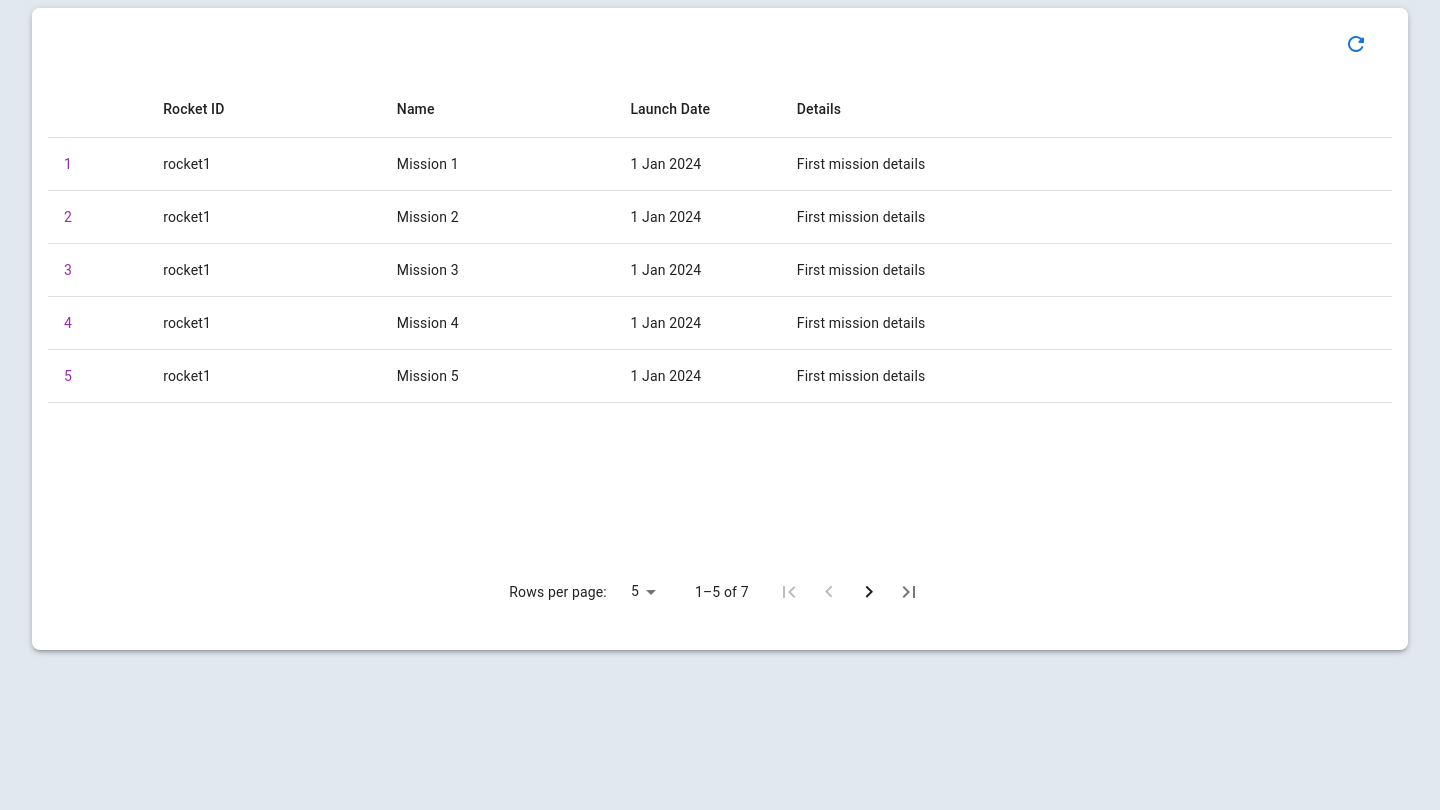
Scenario: LaunchDataTable › Pagination › handles last page with fewer items than rows per page
Step 1. Click the button titled "Go to last page" → (909, 592), box [889,572,929,612]
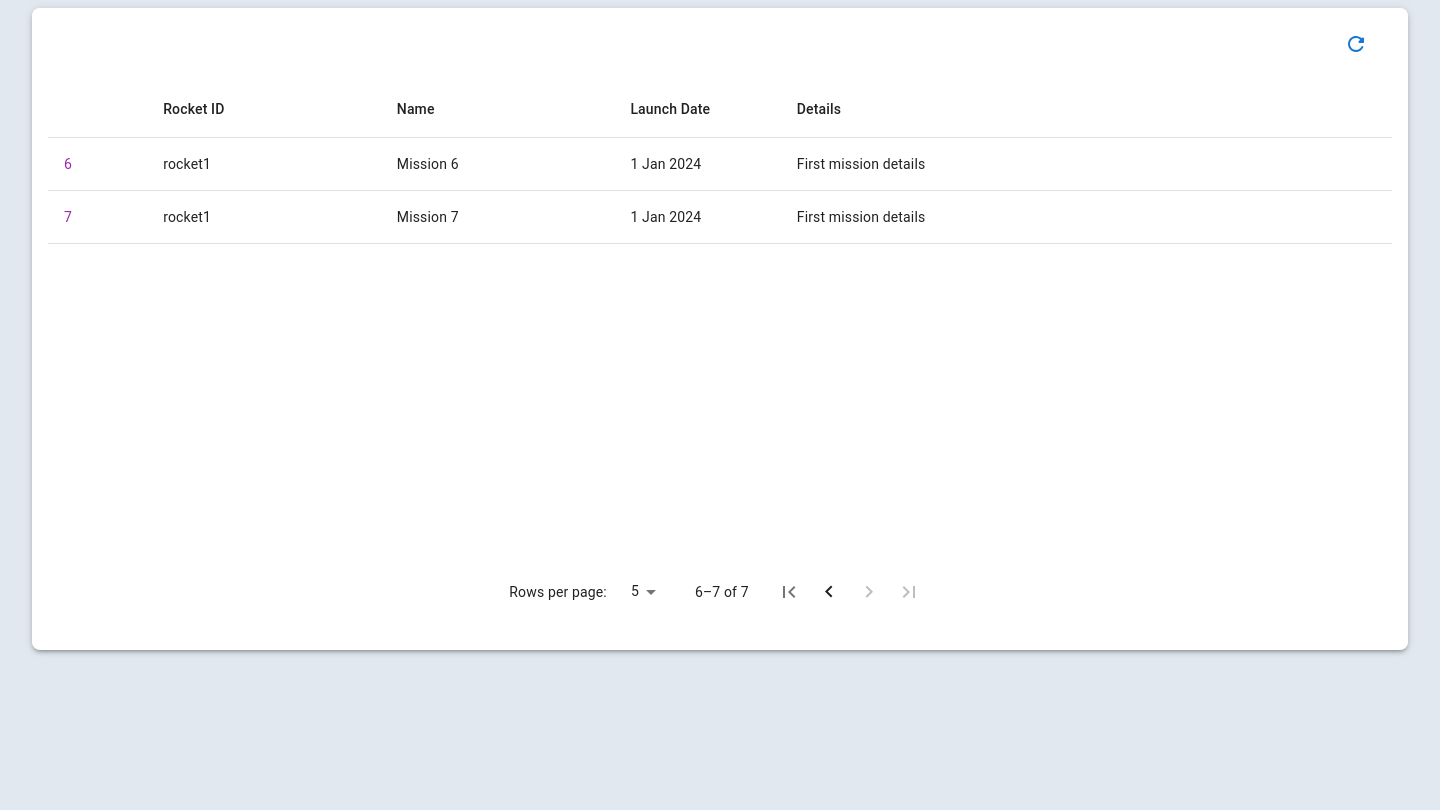
Now the number of rows is 3, box [48,80,1392,138]; [48,138,1392,191]; [48,191,1392,244]
